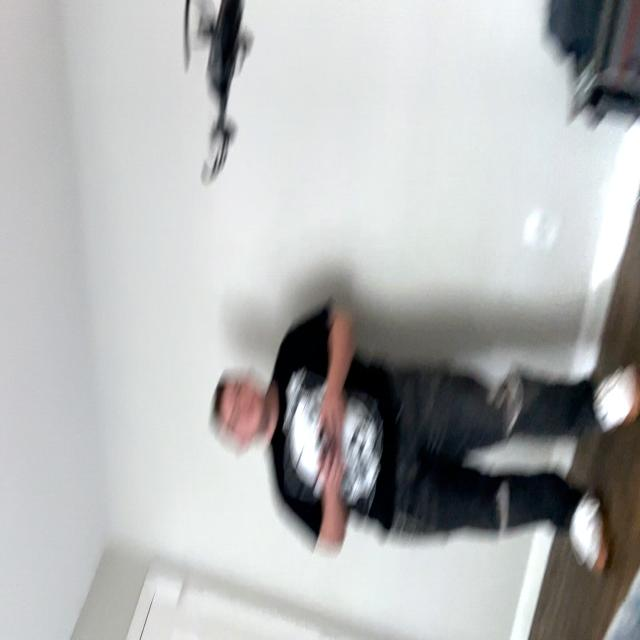drone: (170, 0, 263, 199)
